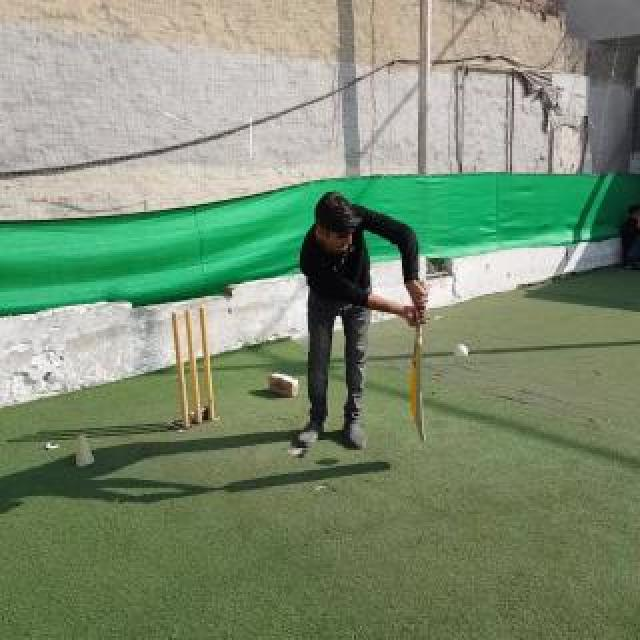ball: (454, 342, 468, 360)
bat: (410, 280, 428, 444)
